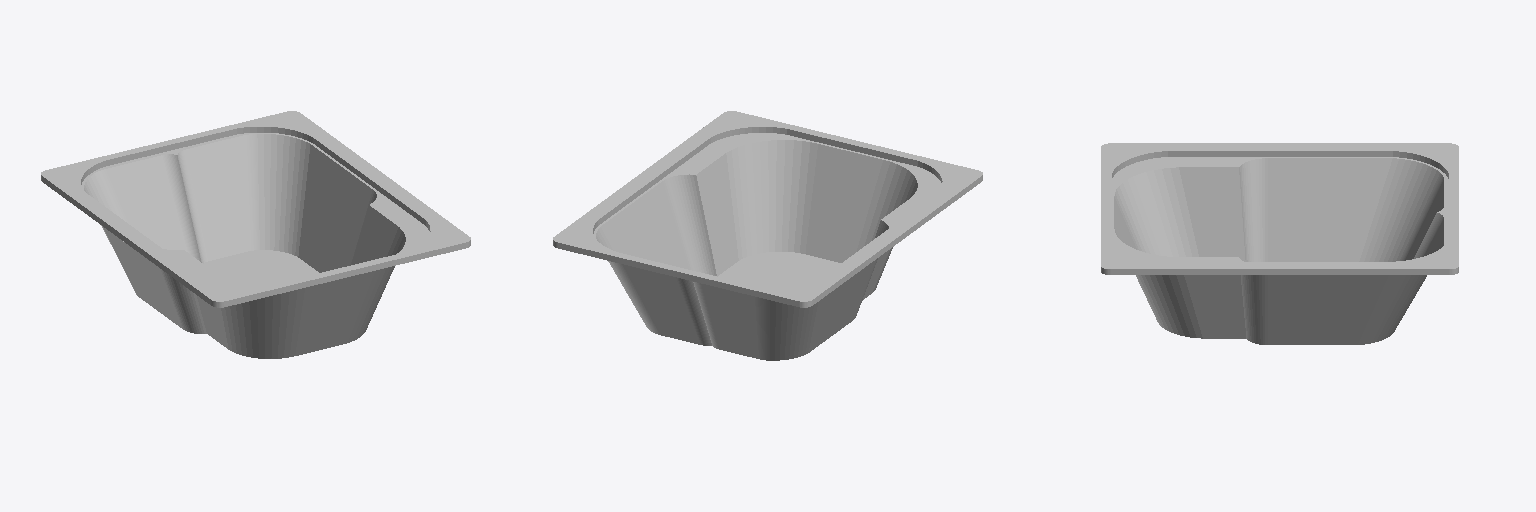
The model's file is MAYA_BLANCA.obj.
The picture shows the model from 3 angles: view 1: azimuth 30°, elevation 25°; view 2: azimuth 150°, elevation 25°; view 3: azimuth 270°, elevation 25°; orthographic projection.
Visible parts, largest first — view 1: Mesh1 Group1 Model; view 2: Mesh1 Group1 Model; view 3: Mesh1 Group1 Model.
Boxes of the visible parts, <box> form: Mesh1 Group1 Model: <box>41,111,470,358</box>; Mesh1 Group1 Model: <box>553,111,982,360</box>; Mesh1 Group1 Model: <box>1101,143,1458,344</box>.
Bounding box in the file's own units: 150 × 55 × 180.